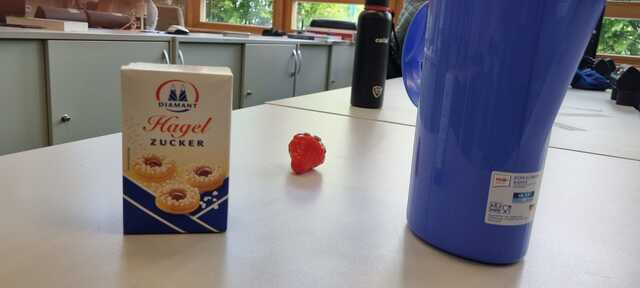004_sugar_box: (118, 59, 236, 239)
012_strawberry: (286, 129, 330, 177)
019_pitcher_base: (397, 1, 610, 268)
